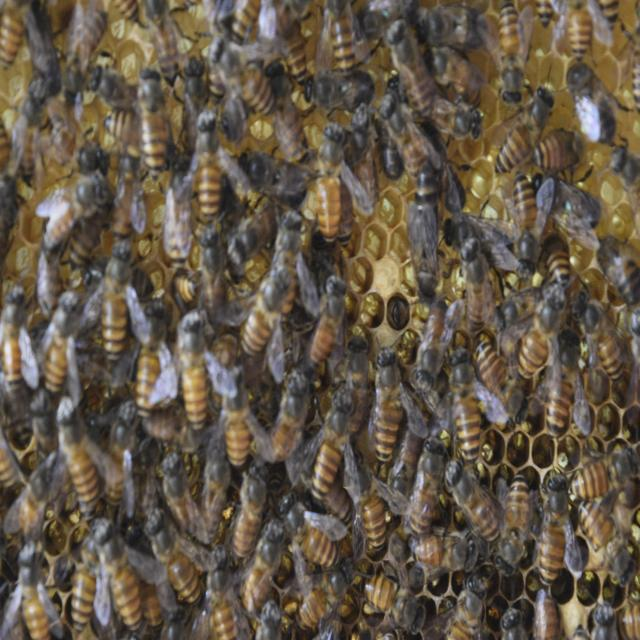honeybee: (162, 316, 231, 446), (432, 200, 537, 280), (303, 382, 366, 510), (93, 517, 158, 640), (511, 277, 572, 403), (82, 241, 148, 355), (172, 118, 242, 222), (47, 393, 107, 514), (573, 288, 637, 399), (241, 257, 295, 388), (311, 123, 368, 247), (274, 484, 344, 582), (2, 544, 71, 640), (30, 176, 108, 259), (532, 468, 584, 590), (212, 372, 270, 481), (36, 282, 84, 413), (404, 159, 448, 300), (265, 207, 317, 326), (495, 80, 557, 179), (302, 276, 356, 389), (0, 74, 61, 174), (204, 33, 278, 115), (125, 75, 182, 176), (444, 335, 486, 472), (126, 297, 173, 418), (384, 27, 444, 121), (186, 229, 229, 360), (57, 12, 116, 105), (146, 517, 201, 614), (197, 547, 254, 640), (239, 142, 307, 219), (384, 88, 442, 178), (264, 72, 315, 174), (288, 571, 363, 640), (99, 408, 146, 518), (230, 461, 273, 581), (350, 461, 391, 577), (302, 63, 380, 123), (581, 502, 638, 584), (264, 368, 311, 467), (569, 437, 640, 502), (413, 525, 486, 588), (268, 0, 316, 95), (536, 174, 604, 241), (448, 457, 499, 546), (568, 56, 610, 158), (416, 139, 470, 218), (69, 541, 112, 640), (250, 516, 290, 622), (496, 0, 534, 111), (408, 84, 477, 145), (8, 459, 59, 541), (496, 468, 534, 578), (410, 0, 482, 57), (366, 570, 424, 640), (382, 399, 420, 504), (109, 146, 149, 243), (421, 43, 478, 111), (461, 238, 499, 339), (532, 224, 579, 304), (405, 298, 444, 394), (159, 453, 205, 534), (376, 353, 406, 476), (544, 328, 577, 438), (473, 327, 514, 415), (320, 0, 366, 76), (554, 0, 608, 64), (150, 0, 190, 85), (51, 118, 108, 176), (442, 571, 489, 640), (410, 434, 444, 529), (25, 0, 57, 99), (513, 176, 543, 279), (224, 0, 272, 64), (200, 449, 231, 544), (367, 0, 423, 49), (0, 284, 27, 380), (84, 63, 130, 118), (0, 374, 39, 438), (610, 141, 640, 223), (600, 251, 640, 311), (534, 584, 569, 640), (0, 0, 27, 72), (38, 244, 62, 324), (251, 592, 287, 640), (1, 166, 17, 272), (168, 265, 202, 307), (586, 598, 617, 640), (496, 608, 532, 640), (113, 0, 146, 32), (0, 422, 15, 492), (0, 120, 22, 164), (532, 0, 550, 30)
